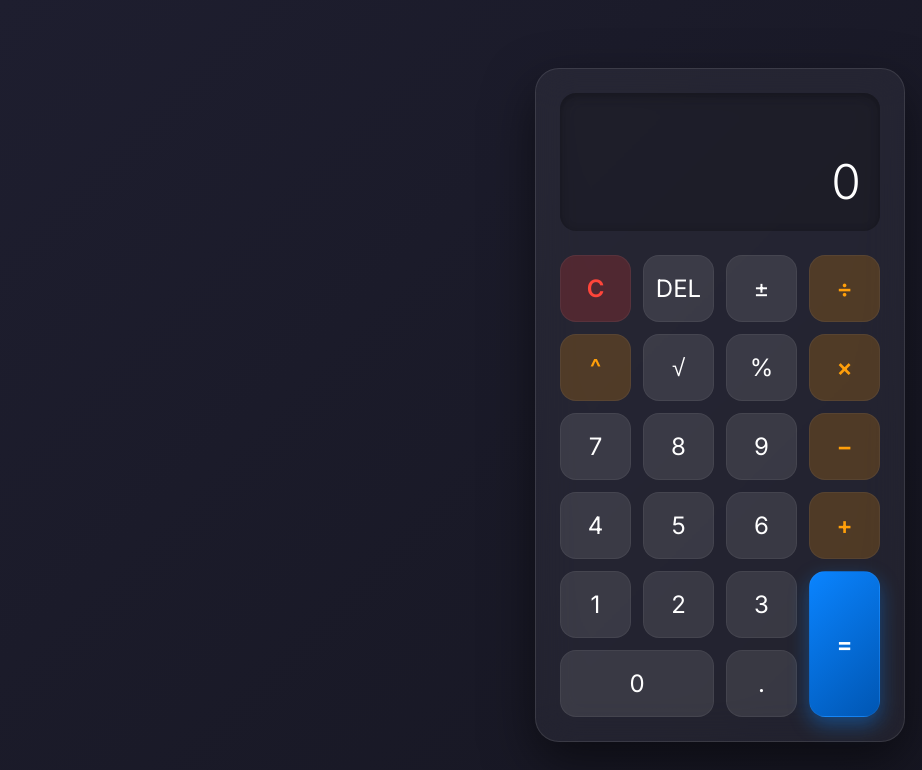
Calculator App › handles unary operation: percentage
Click the button "5" at (678, 526), box [643, 492, 714, 559]
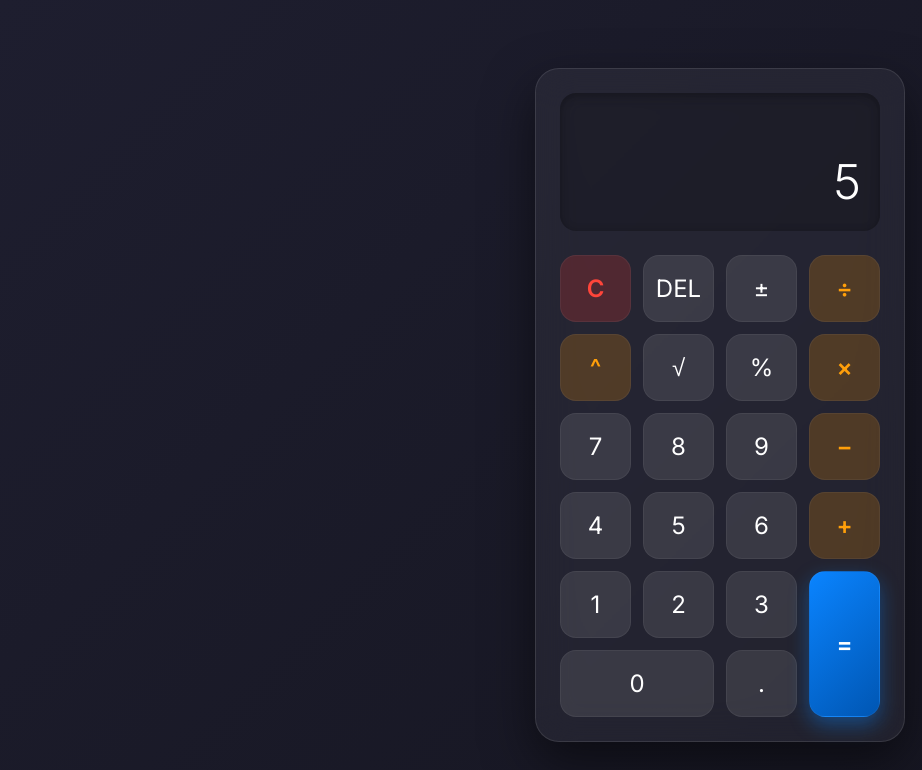
Click the button "0" at (637, 684), box [560, 650, 714, 717]
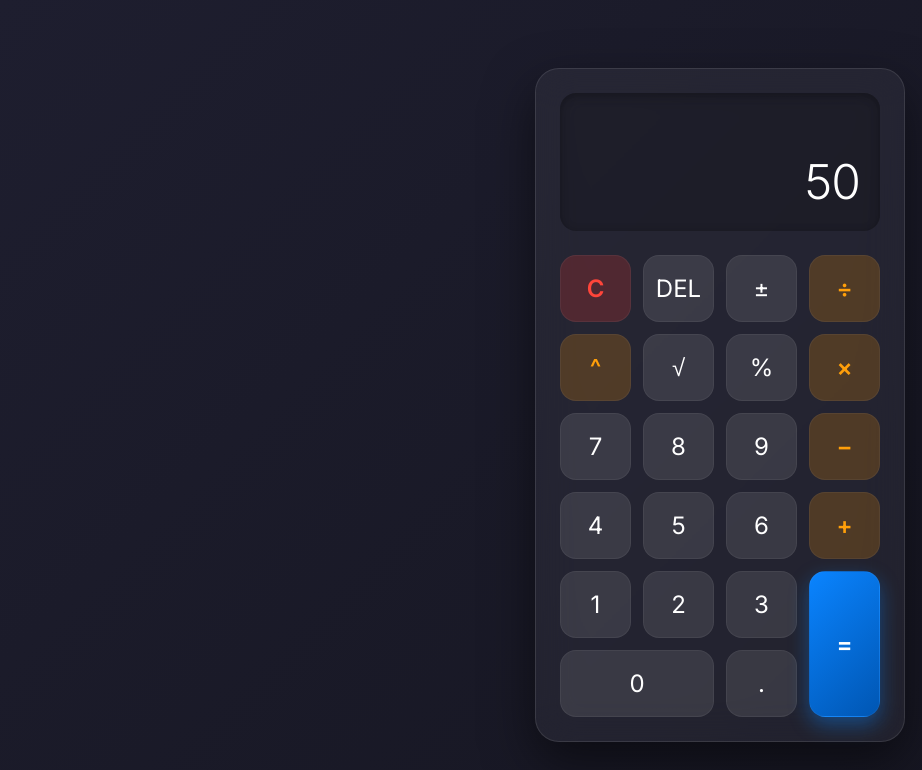
Click the button "%" at (762, 368), box [726, 334, 797, 401]
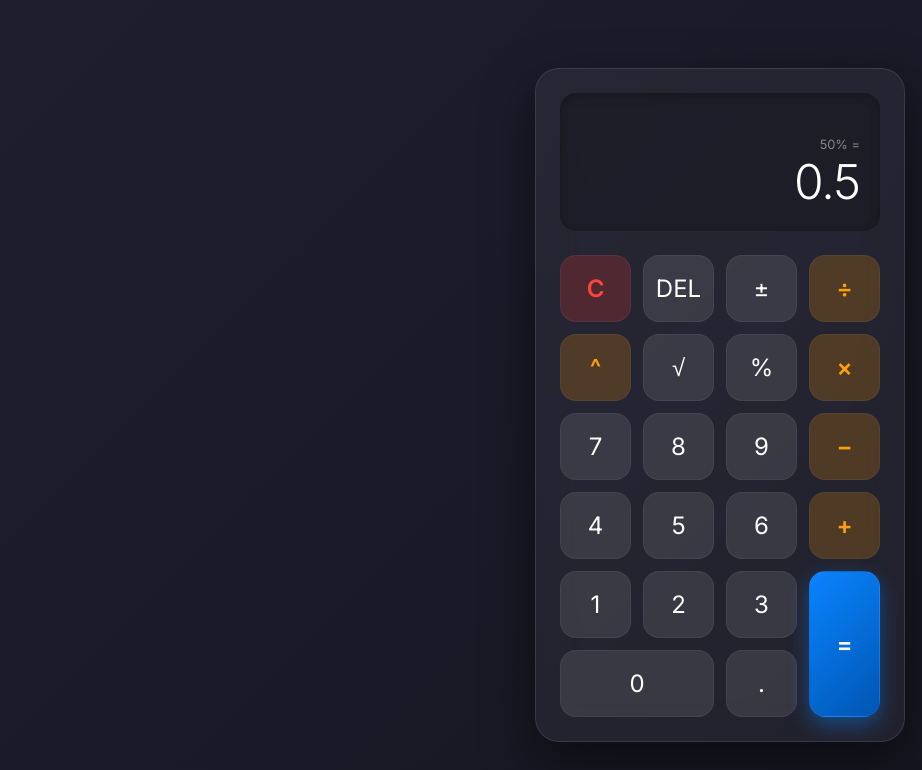
Expected: the text "0.5" is shown, [794, 152, 860, 211]
Expected: the text "50% =" is shown, [820, 137, 860, 152]
